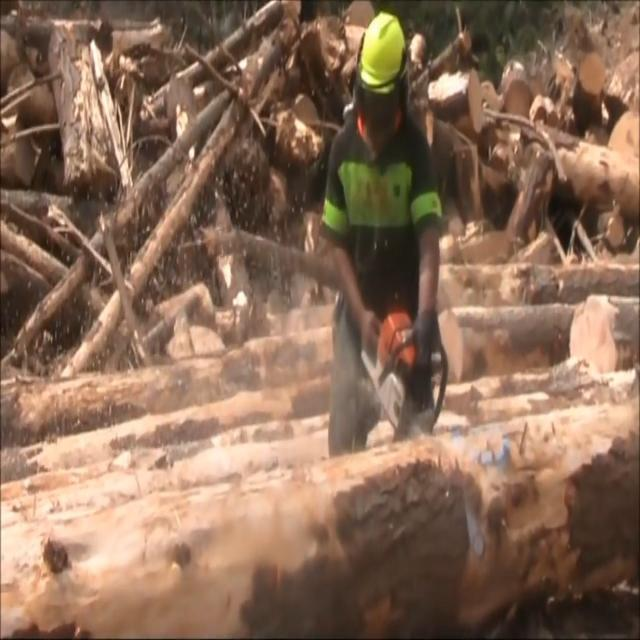Chainsaw: (335, 281, 468, 495)
